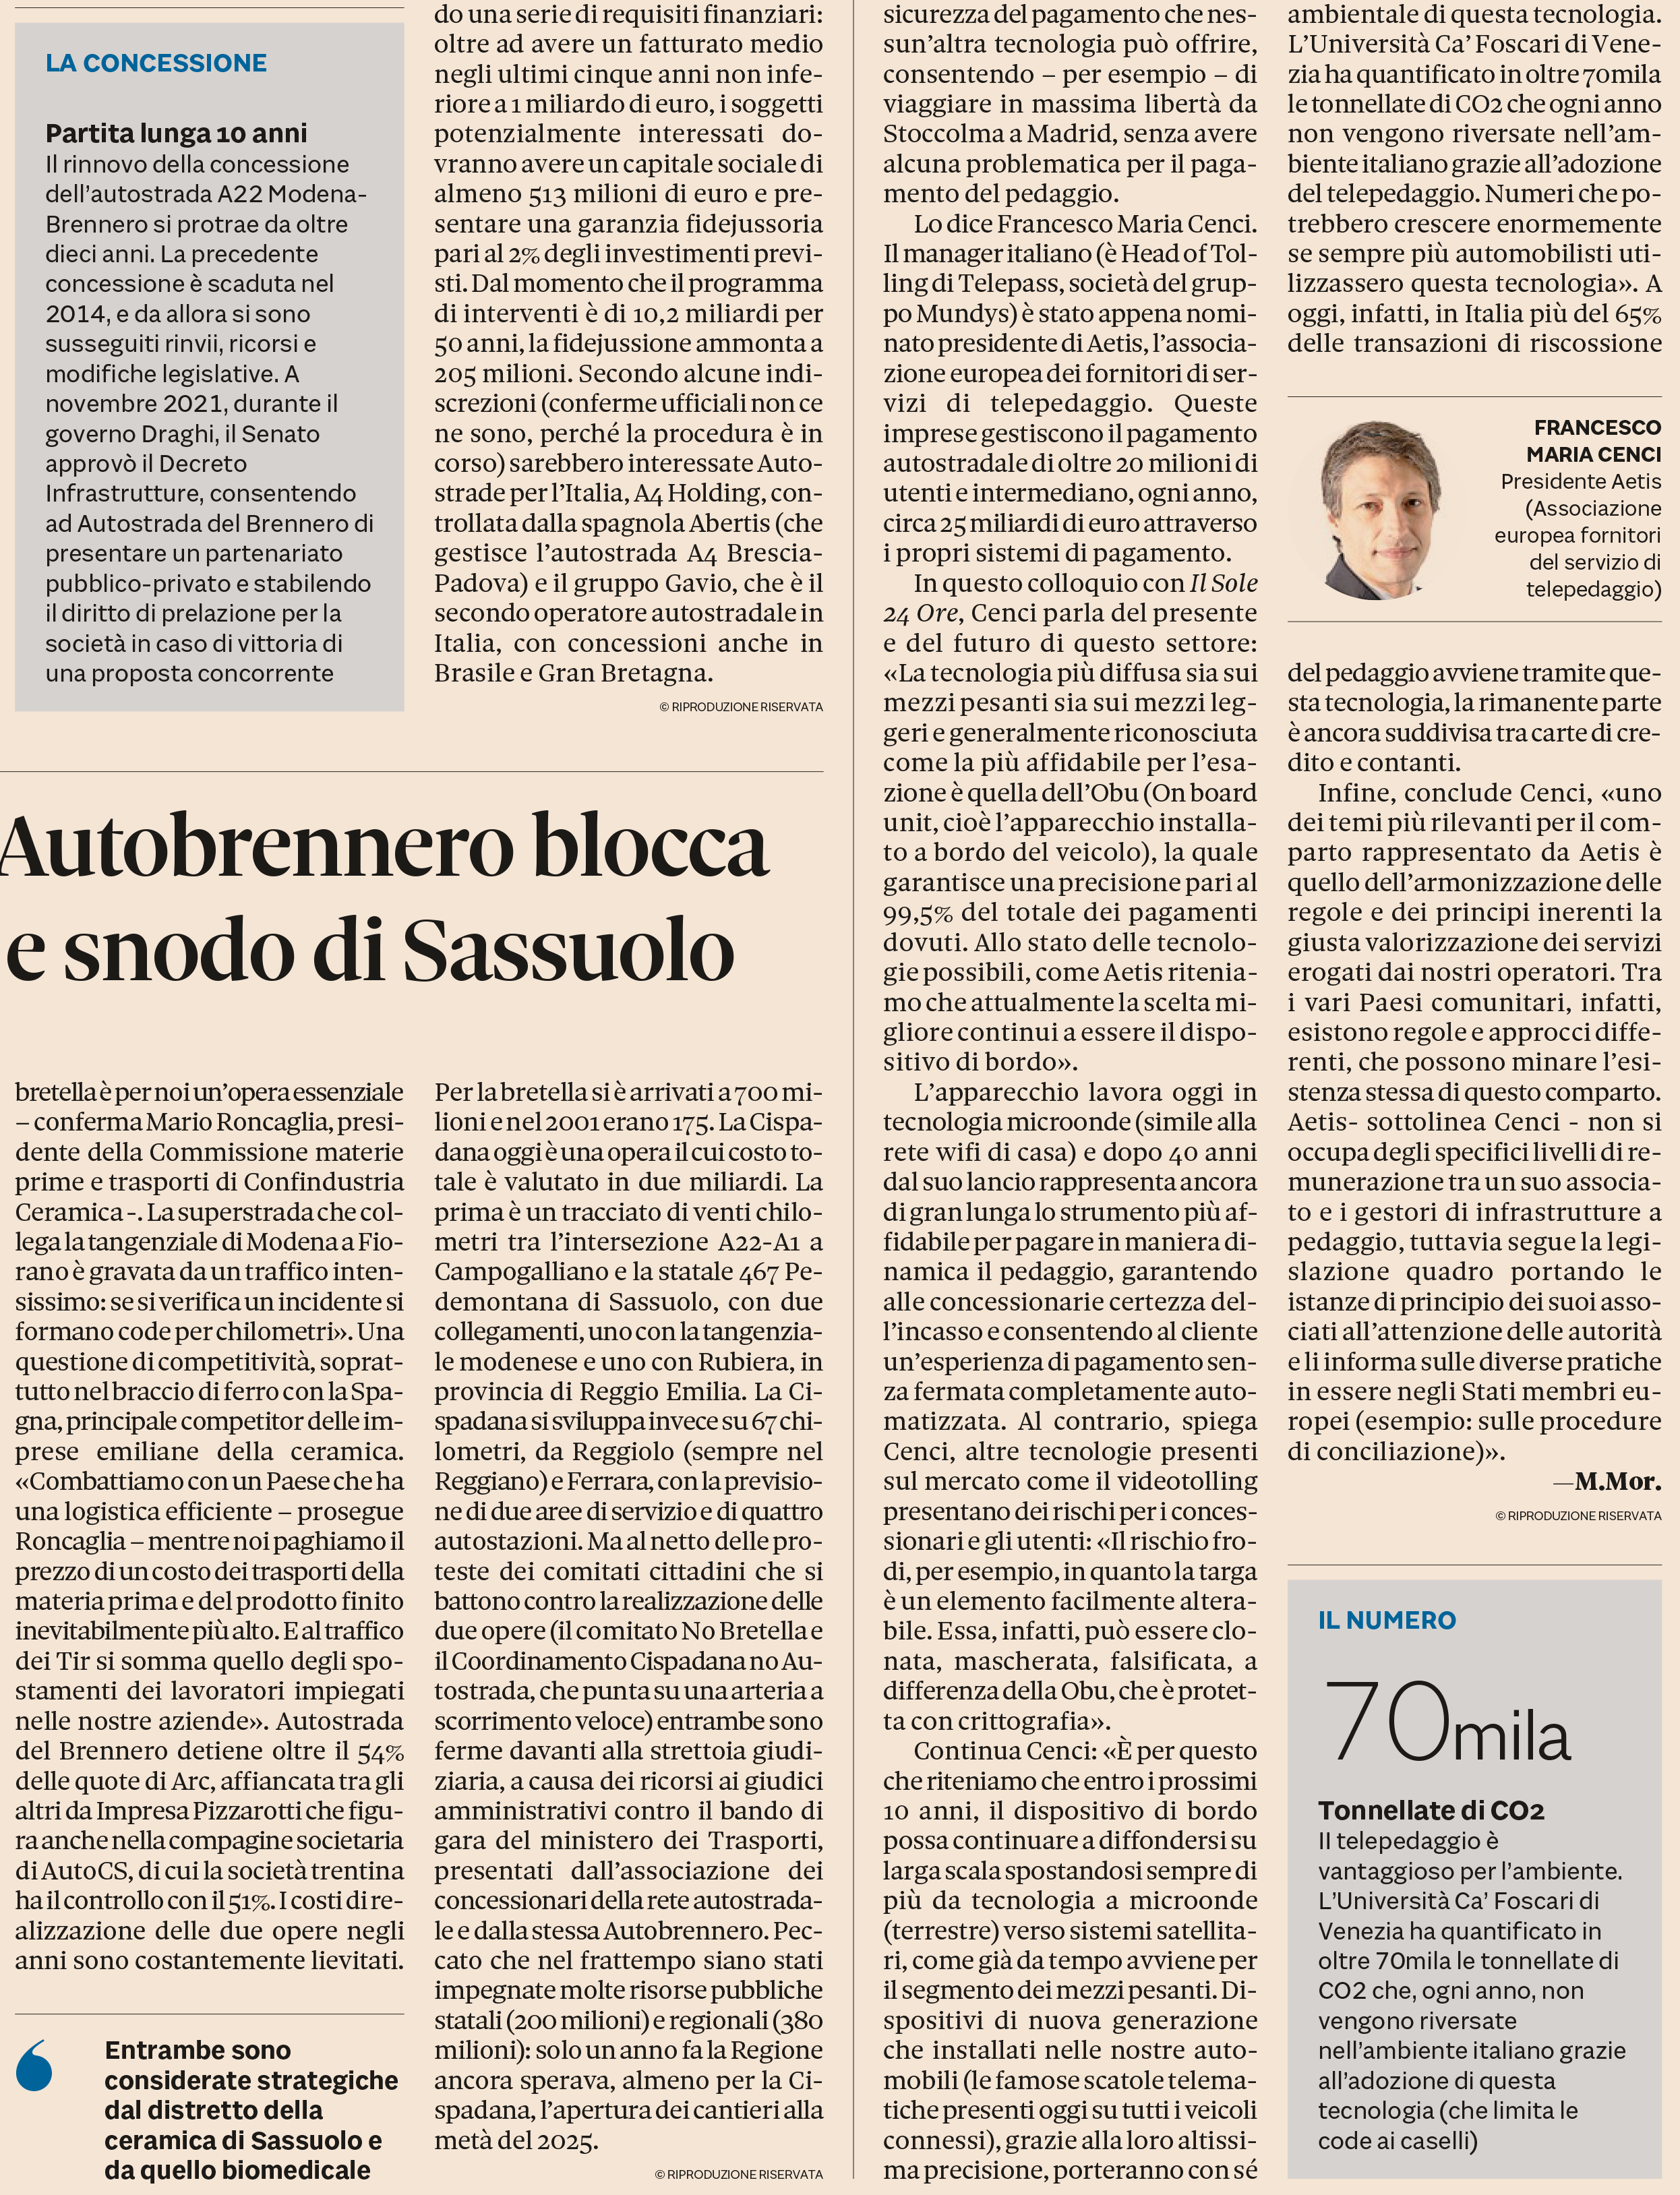scheda-numerone-1: (1295, 1641, 1648, 2172)
scheda-testo-2.1: (25, 26, 399, 702)
